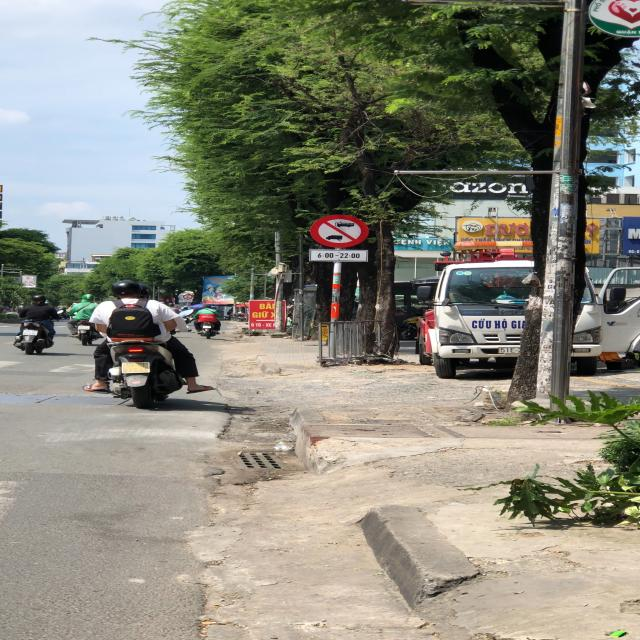Bien bao cam xe oto khach va xe oto tai: (304, 213, 372, 248)
